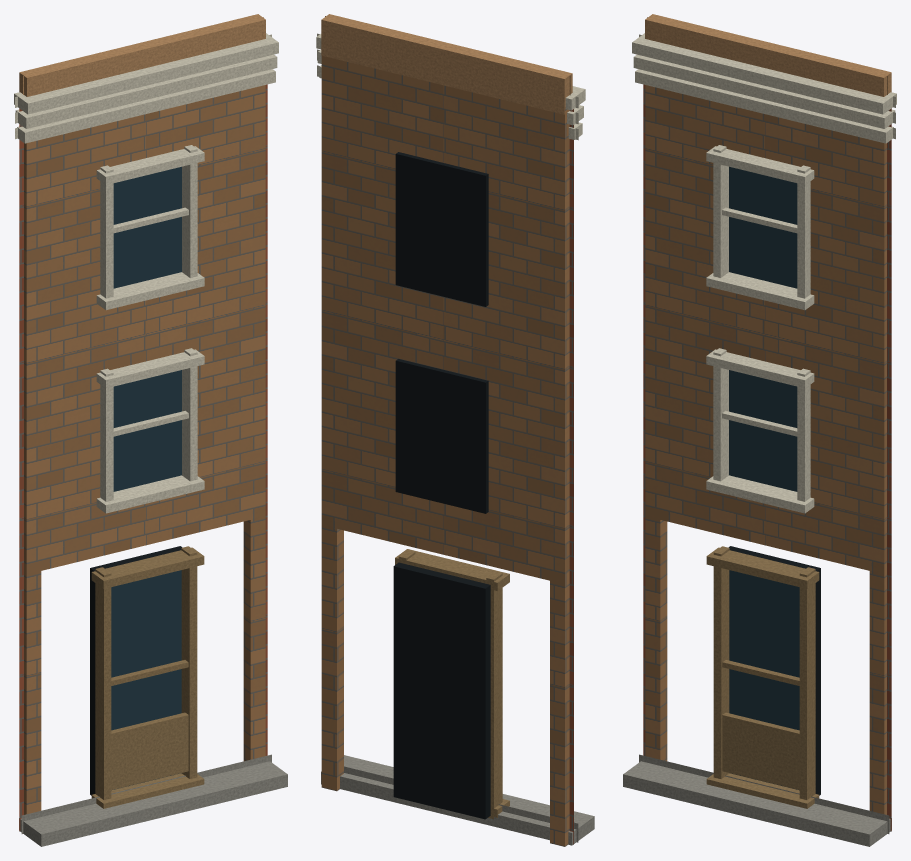
File: CLSTGA18_lod2.glb
The picture shows the model from 3 angles, left to right: view 1: azimuth 30°, elevation 25°; view 2: azimuth 150°, elevation 25°; view 3: azimuth 330°, elevation 25°; orthographic projection.
Parts seen in each view (by area): view 1: CLSTGA18_FRONT_LOD2; view 2: CLSTGA18_FRONT_LOD2; view 3: CLSTGA18_FRONT_LOD2.
Boxes of the visible parts, x1,y1,x2,y2 form: CLSTGA18_FRONT_LOD2: (14, 14, 287, 846); CLSTGA18_FRONT_LOD2: (316, 14, 594, 846); CLSTGA18_FRONT_LOD2: (623, 14, 896, 846).
Size of the model in its own units: 3.44 by 9.66 by 0.68.
Materials: 9 (7 with a texture image).
